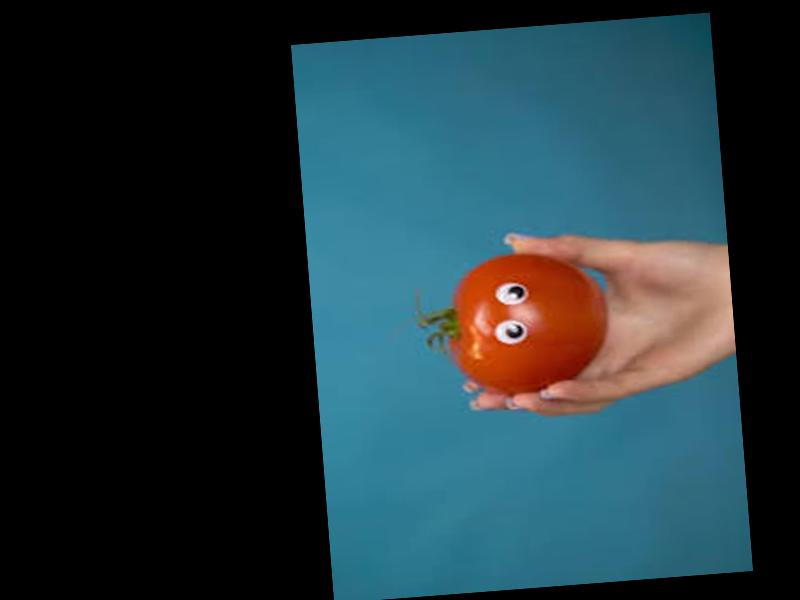Tomato: (440, 245, 613, 400)
